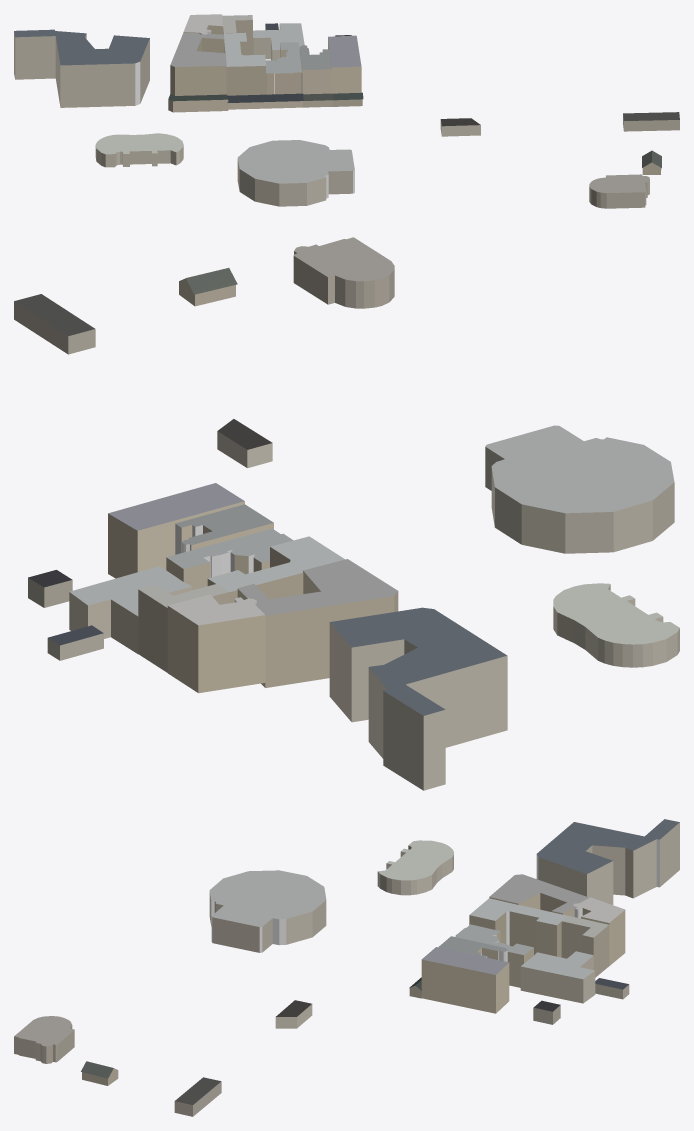
3 renders of one model, top to bottom at view 1: azimuth 30°, elevation 25°; view 2: azimuth 150°, elevation 25°; view 3: azimuth 270°, elevation 25°, orthographic. The views are drawn at different scales.
Parts seen in each view (by area): view 1: tuile; view 2: tuile; view 3: tuile.
Part boxes in pixels (box(x1,y1,x2,y2)): tuile: box(14, 14, 679, 208); tuile: box(14, 237, 679, 790); tuile: box(14, 819, 679, 1116).
Size of the model in its own units: 237 by 21.31 by 254.
